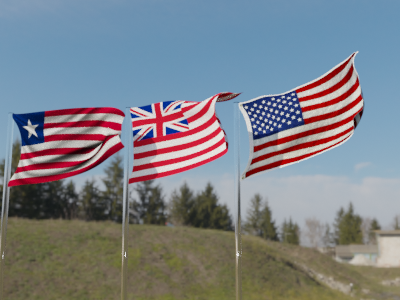America flag: (242, 49, 363, 184)
Liberia flag: (8, 105, 124, 185)
Malaysia flag: (127, 89, 240, 189)
